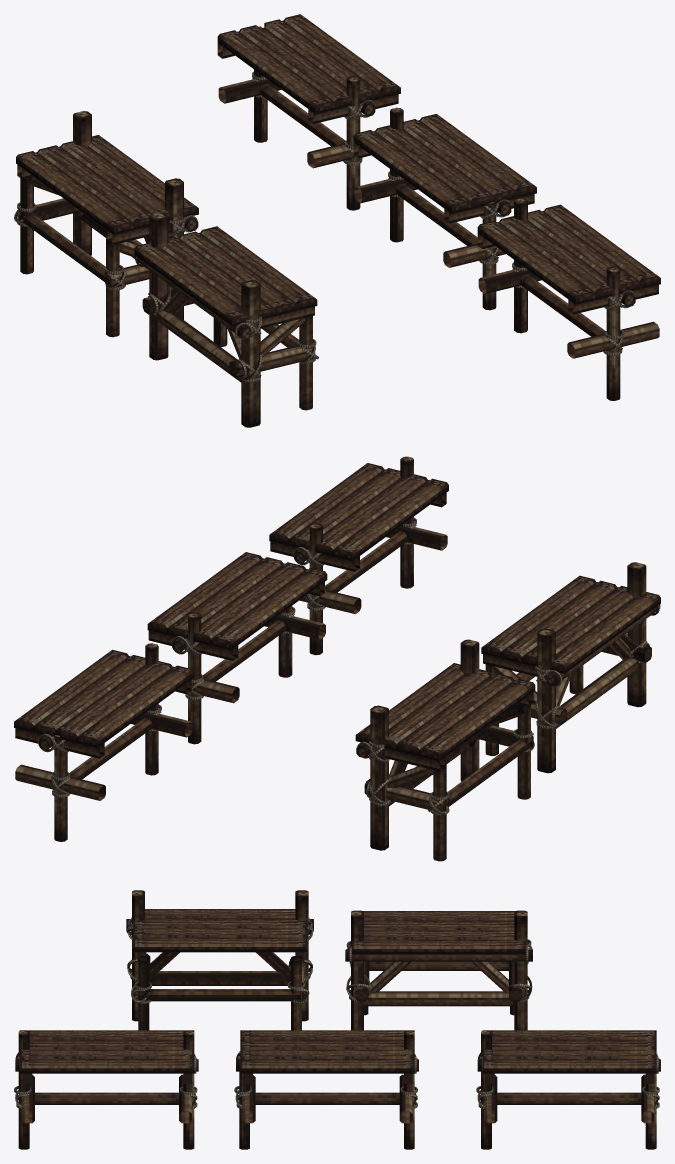
File: EnvObjMD_Pier_A_End.FBX
3 views of the same model, one above another, from view 1: azimuth 30°, elevation 25°; view 2: azimuth 150°, elevation 25°; view 3: azimuth 270°, elevation 25° (orthographic). The views are drawn at different scales.
Visible parts, largest first — view 1: EnvObjMD_Pier_A_Start, EnvObjMD_Pier_A_End, EnvObjMD_Pier_A_Loop, EnvObjMD_Pier_A_Loop_B, EnvObjMD_Pier_A_Loop_A; view 2: EnvObjMD_Pier_A_End, EnvObjMD_Pier_A_Start, EnvObjMD_Pier_A_Loop_B, EnvObjMD_Pier_A_Loop_A, EnvObjMD_Pier_A_Loop; view 3: EnvObjMD_Pier_A_End, EnvObjMD_Pier_A_Start, EnvObjMD_Pier_A_Loop, EnvObjMD_Pier_A_Loop_B, EnvObjMD_Pier_A_Loop_A.
Boxes of the visible parts, x1,y1,x2,y2 form: EnvObjMD_Pier_A_Start: (134, 212, 318, 427); EnvObjMD_Pier_A_End: (14, 111, 198, 337); EnvObjMD_Pier_A_Loop: (477, 198, 660, 400); EnvObjMD_Pier_A_Loop_B: (217, 14, 400, 210); EnvObjMD_Pier_A_Loop_A: (353, 107, 536, 310); EnvObjMD_Pier_A_End: (355, 639, 535, 861); EnvObjMD_Pier_A_Start: (481, 562, 660, 773); EnvObjMD_Pier_A_Loop_B: (14, 643, 193, 841); EnvObjMD_Pier_A_Loop_A: (147, 552, 327, 744); EnvObjMD_Pier_A_Loop: (269, 456, 448, 655); EnvObjMD_Pier_A_End: (345, 910, 532, 1030); EnvObjMD_Pier_A_Start: (126, 890, 313, 1030); EnvObjMD_Pier_A_Loop: (14, 1030, 198, 1149); EnvObjMD_Pier_A_Loop_B: (476, 1030, 660, 1149); EnvObjMD_Pier_A_Loop_A: (234, 1030, 418, 1149).
Size of the model in its own units: 858 by 315 by 1483.
Materials: 1 (1 with a texture image).
